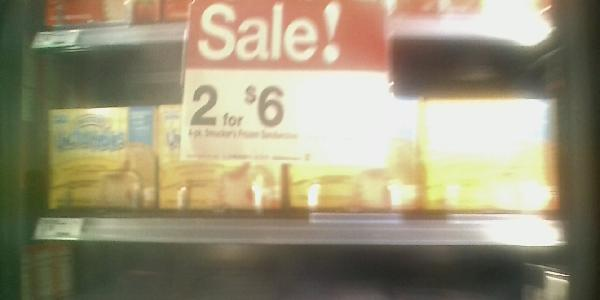icecream: (417, 97, 564, 219), (297, 103, 426, 220), (166, 108, 284, 219), (44, 110, 160, 214)
